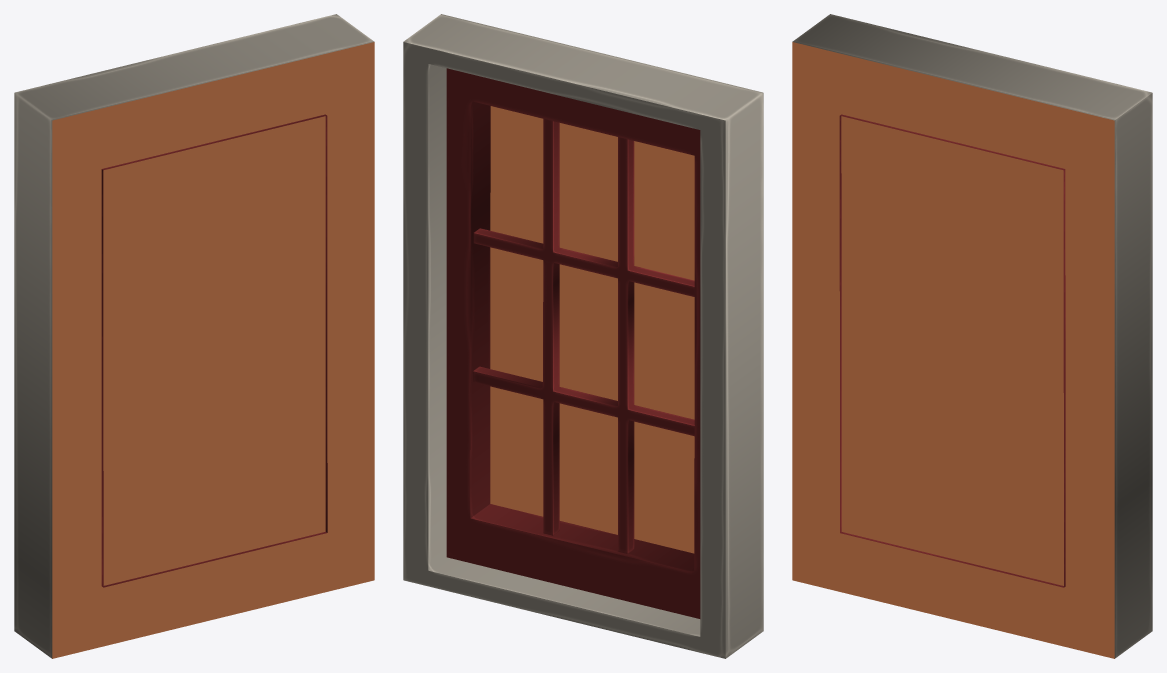
Rendered from Window.fbx.
3 renders of one model, left to right at view 1: azimuth 30°, elevation 25°; view 2: azimuth 150°, elevation 25°; view 3: azimuth 330°, elevation 25°, orthographic.
Parts seen in each view (by area): view 1: Window; view 2: Window; view 3: Window.
Part boxes in pixels (x1,y1,x2,y2): Window: (14,14,374,658); Window: (403,14,763,658); Window: (792,14,1152,658).
Bounding box in the file's own units: 73.9 × 118 × 15.81.
2 materials, 1 textured.
